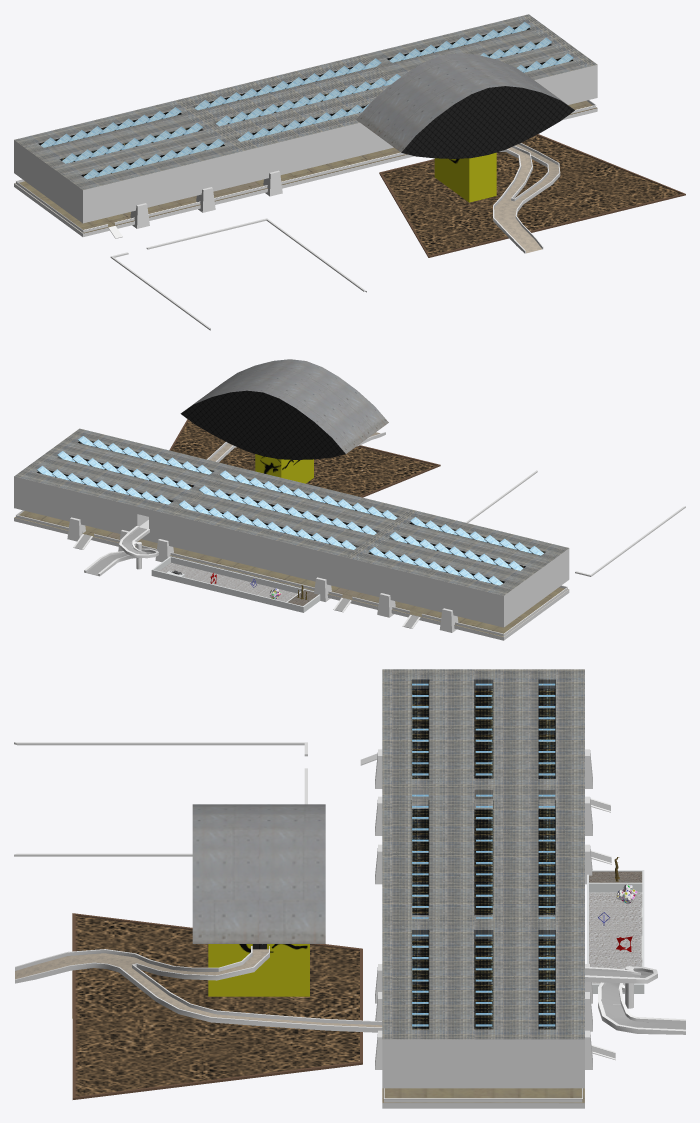
3 views of the same model, one above another, from view 1: azimuth 30°, elevation 25°; view 2: azimuth 150°, elevation 25°; view 3: azimuth 270°, elevation 25° (orthographic). The views are drawn at different scales.
Visible parts, largest first — view 1: Museu Oscar Niemayer; view 2: Museu Oscar Niemayer; view 3: Museu Oscar Niemayer.
Part boxes in pixels (x1,y1,x2,y2): Museu Oscar Niemayer: [14, 14, 685, 330]; Museu Oscar Niemayer: [14, 359, 685, 640]; Museu Oscar Niemayer: [14, 669, 685, 1108].
Size of the model in its own units: 97.63 by 21 by 74.94.
1 material, 1 textured.
